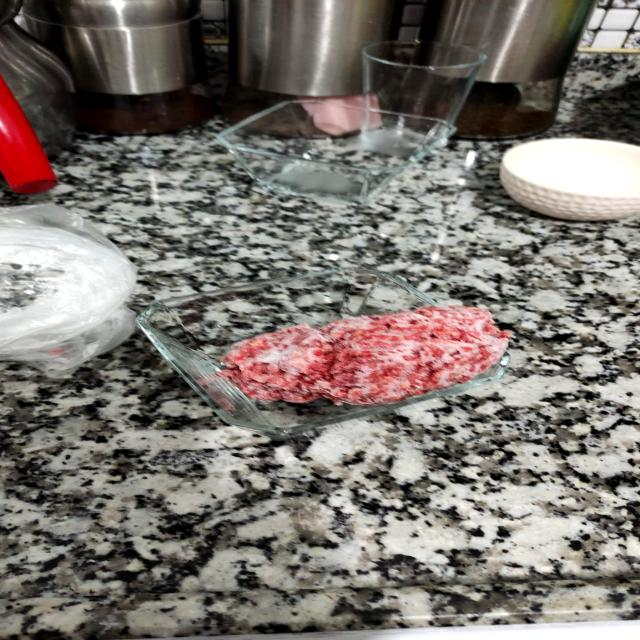ground meat: (198, 288, 520, 411)
